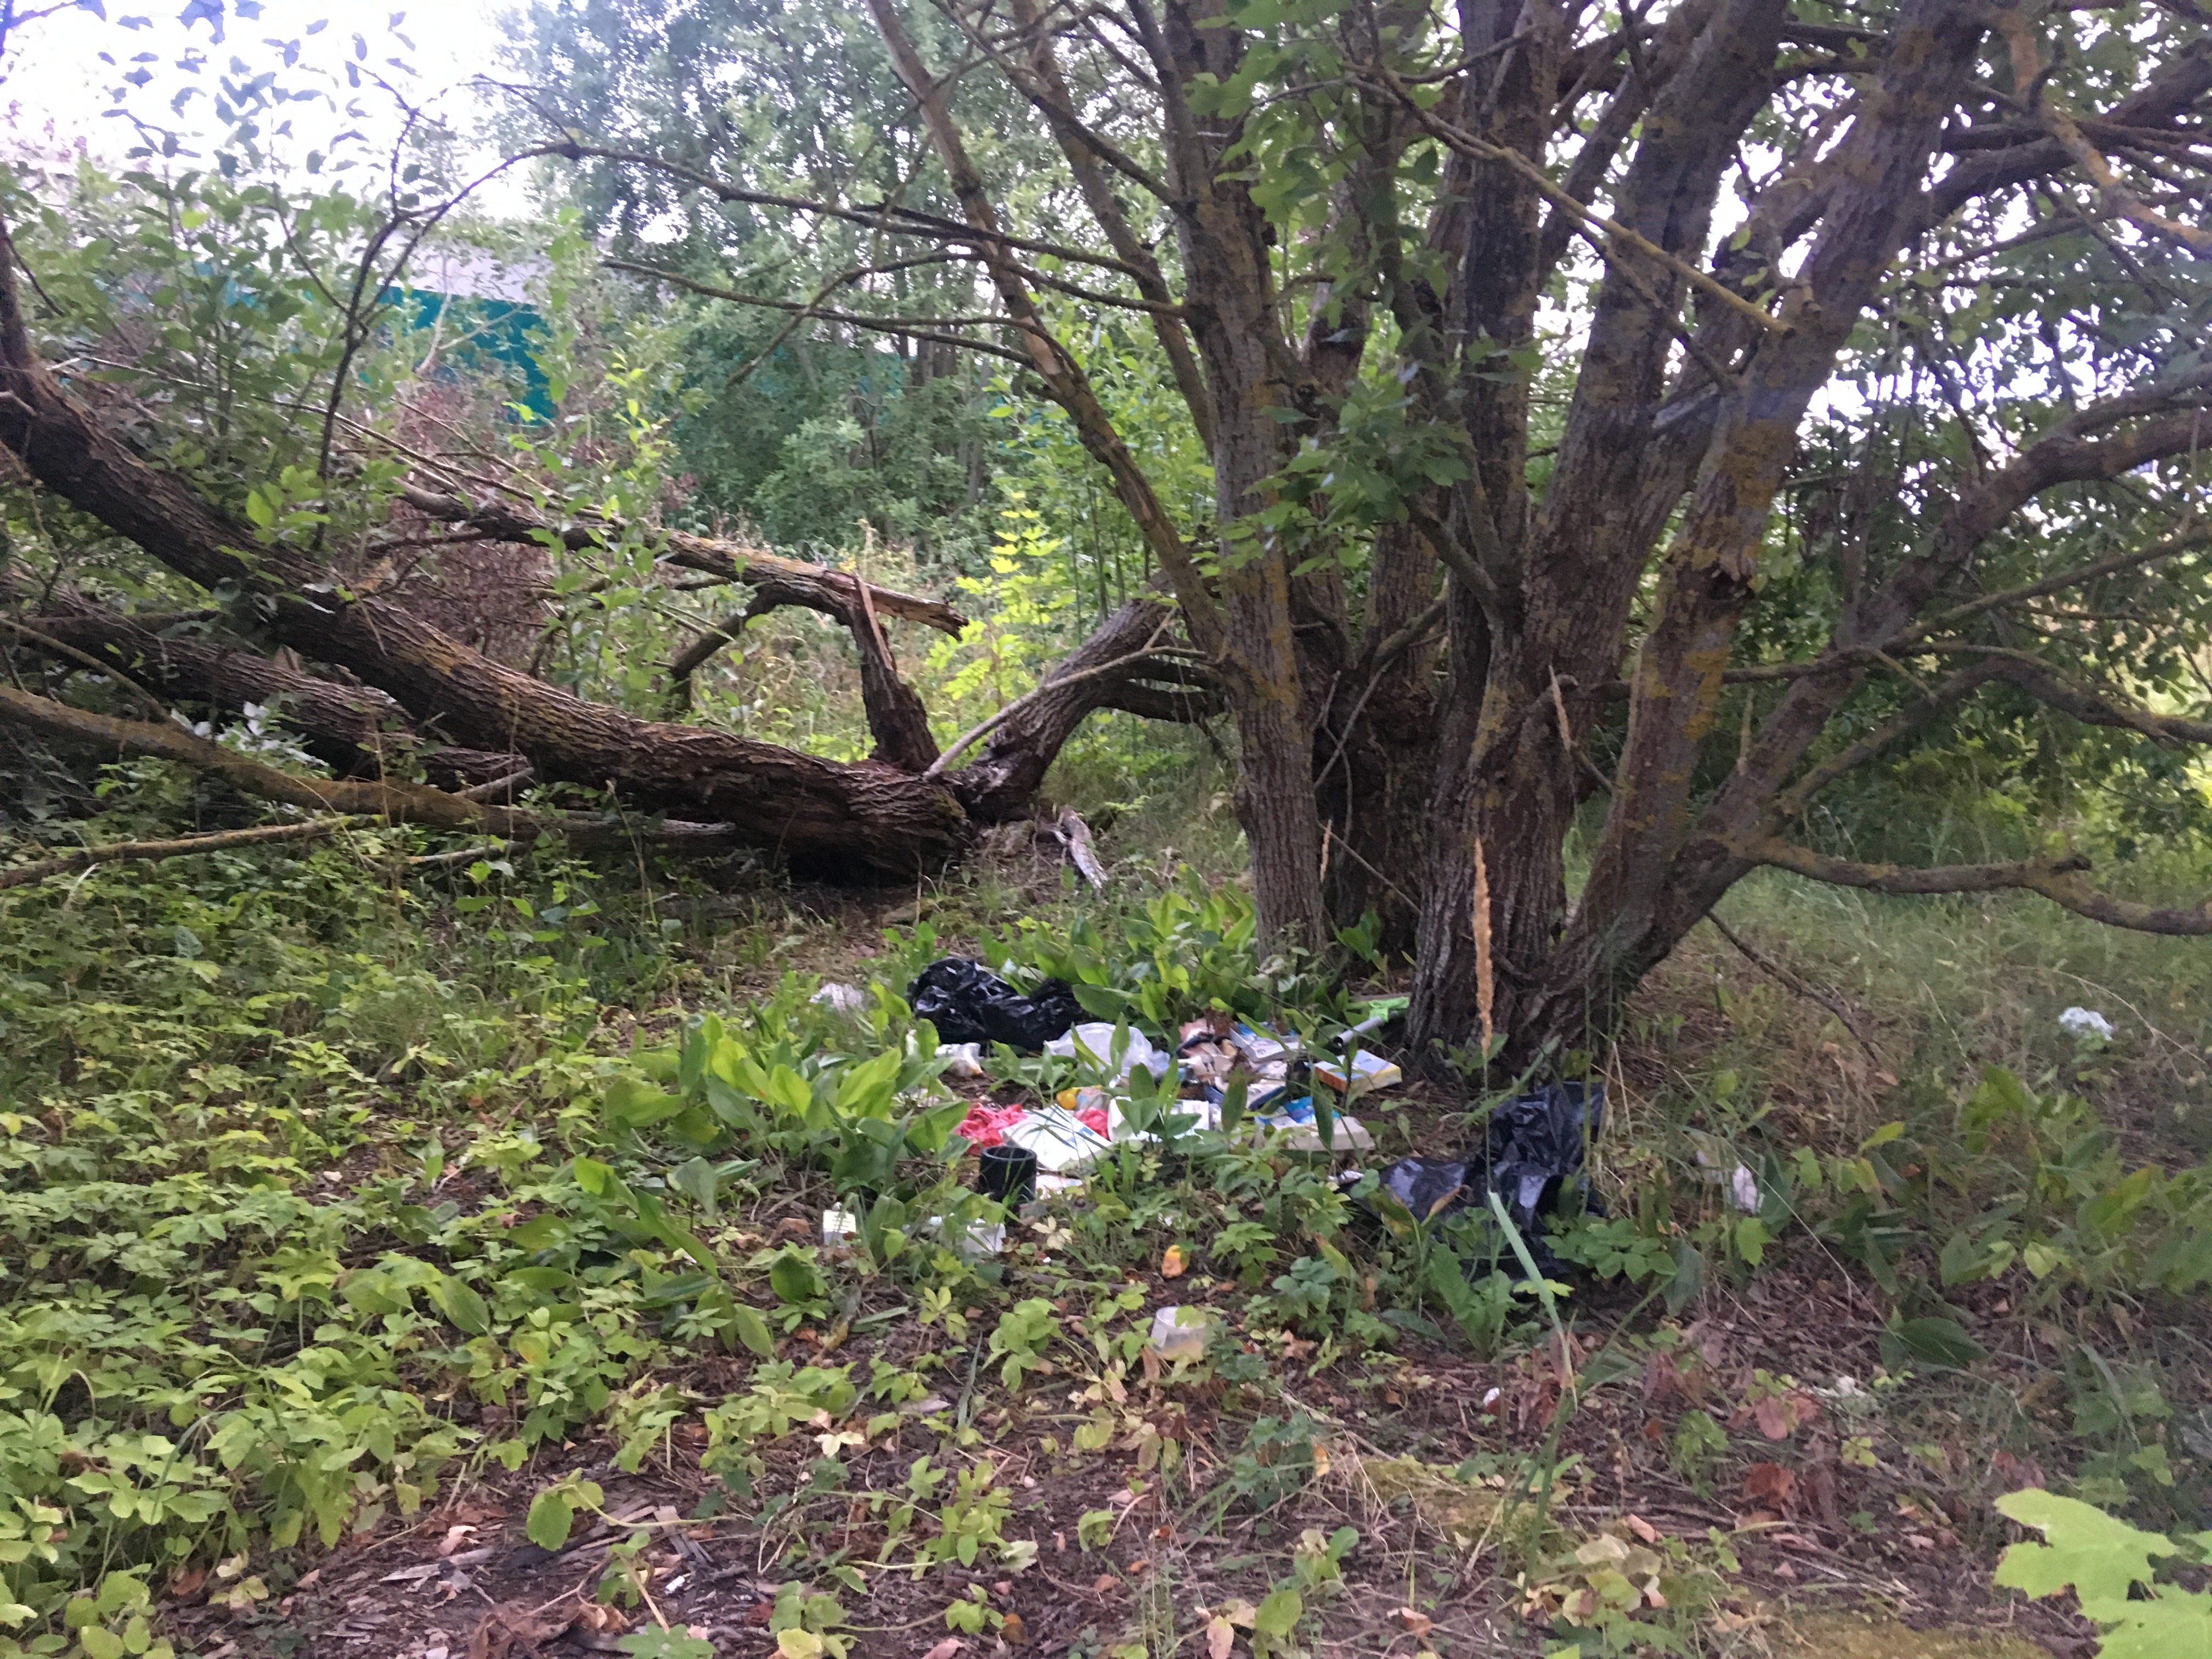trash: (845, 908, 1681, 1354)
